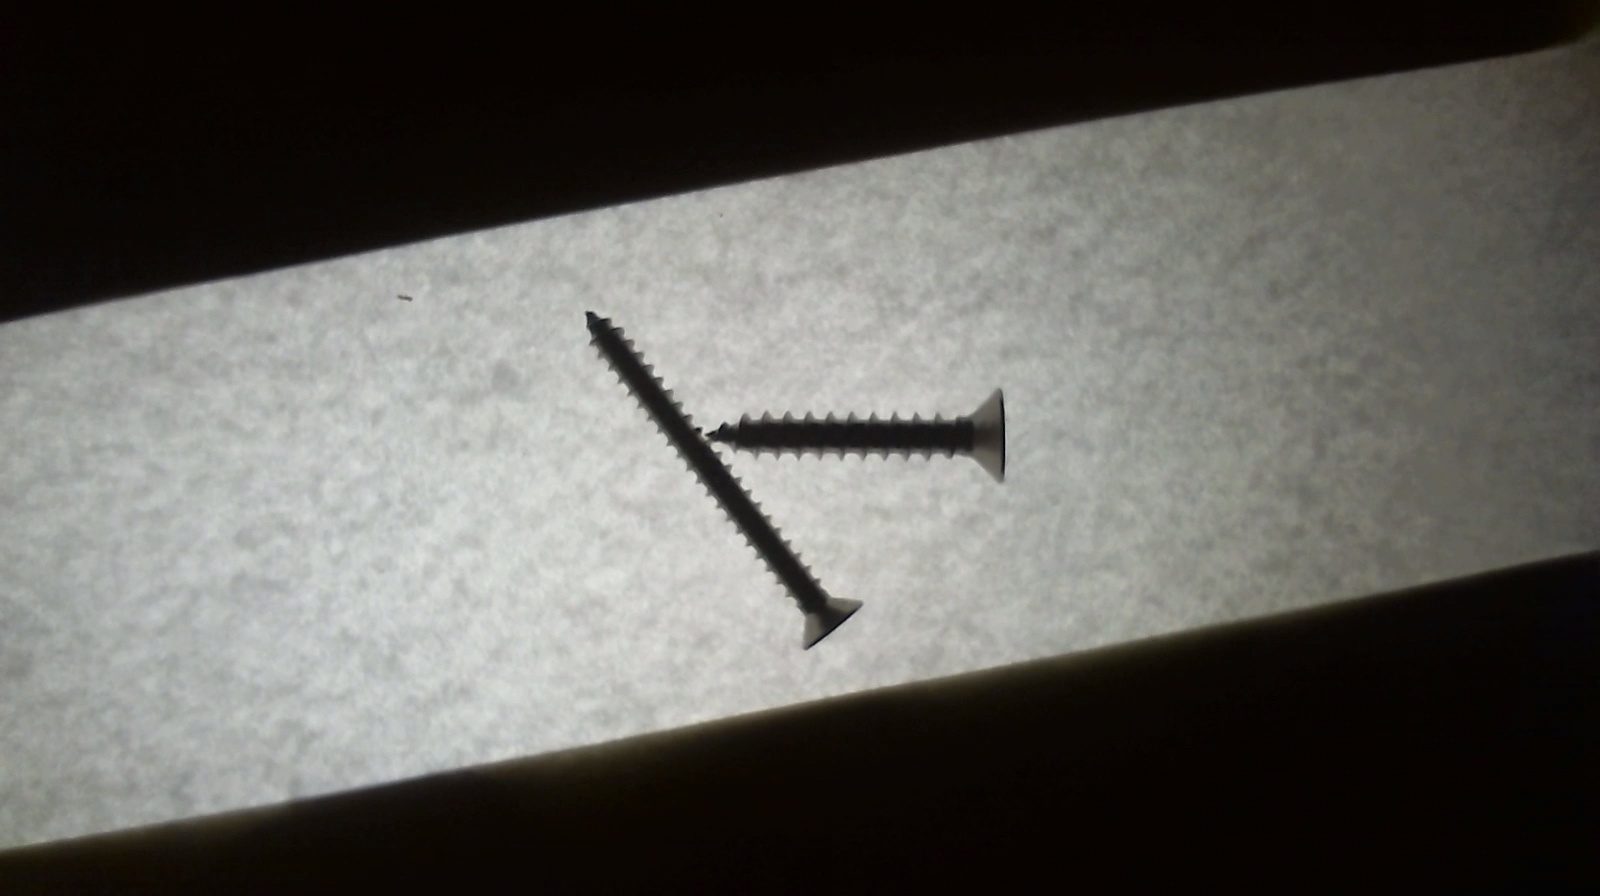S001: (690, 388, 1030, 482)
S002: (569, 308, 864, 651)
